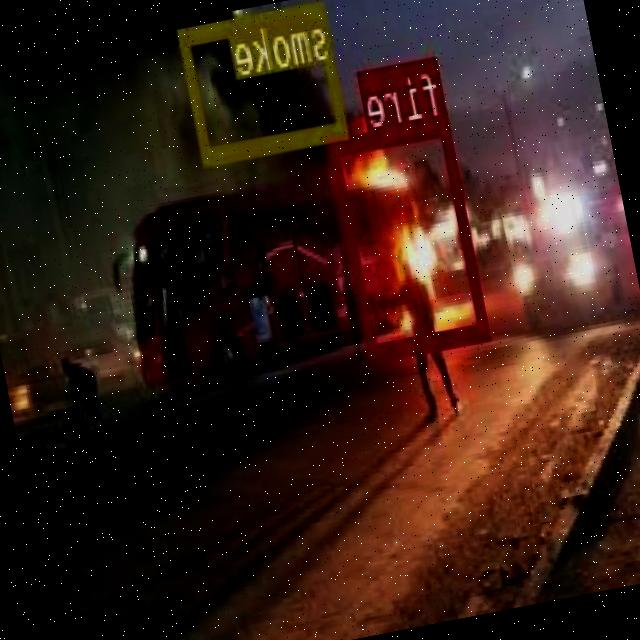fire: (329, 115, 491, 356)
smoke: (180, 0, 351, 161)
